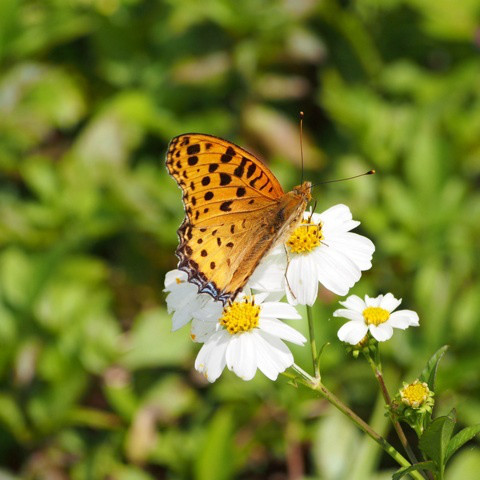Argyreus hyperbius: (163, 98, 384, 306)
butterfly: (165, 100, 386, 308)
